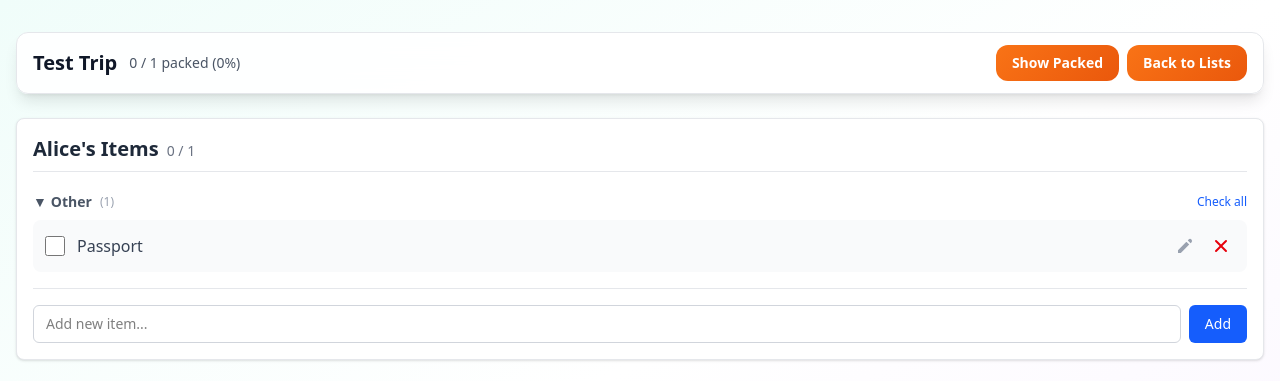
ViewPackingList inline item editing › clicking pencil icon enters edit mode
expect the text "Passport" is shown: met, box [77,234,143,258]
Click the button titled "Edit item".
click(1185, 246)  # box [1171,232,1199,260]
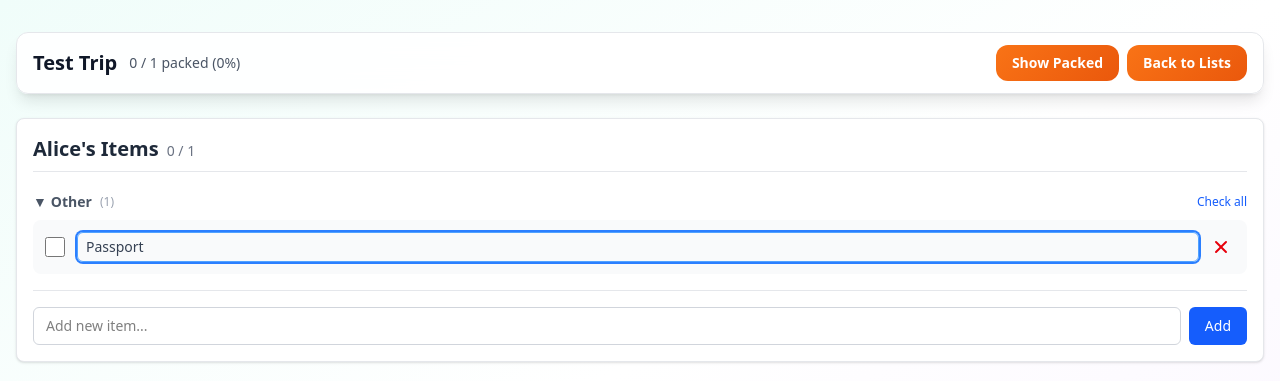
expect the field named "edit item name" is shown: met, box [77,232,1199,262]
